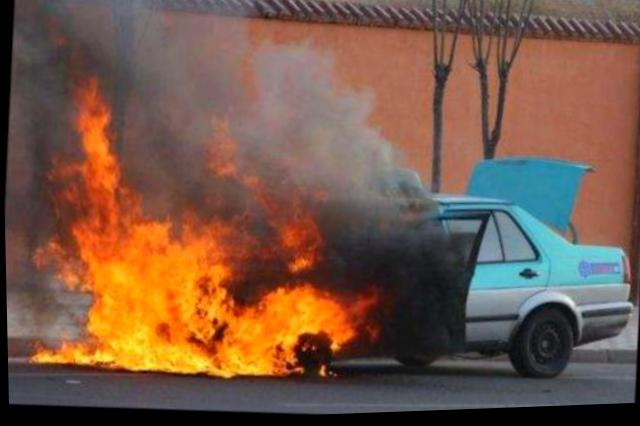fire: (24, 60, 393, 388)
